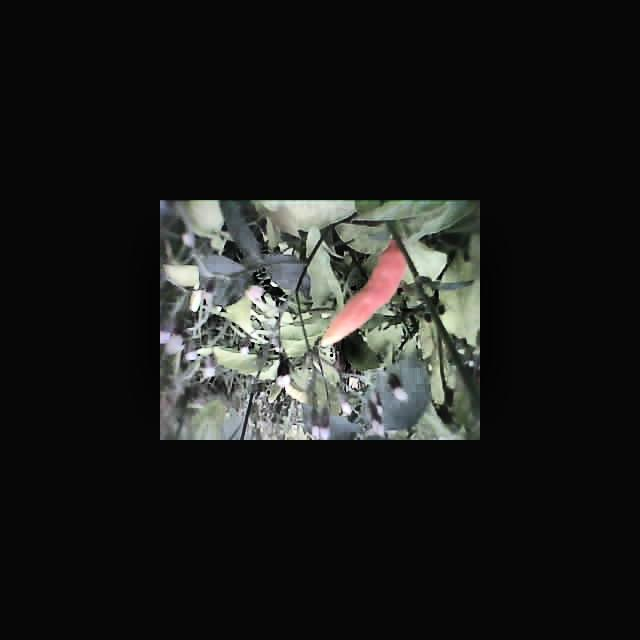Cabai: (314, 234, 407, 353)
